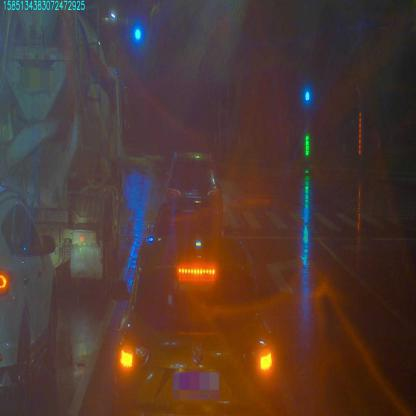traffic-light: (128, 24, 146, 45)
